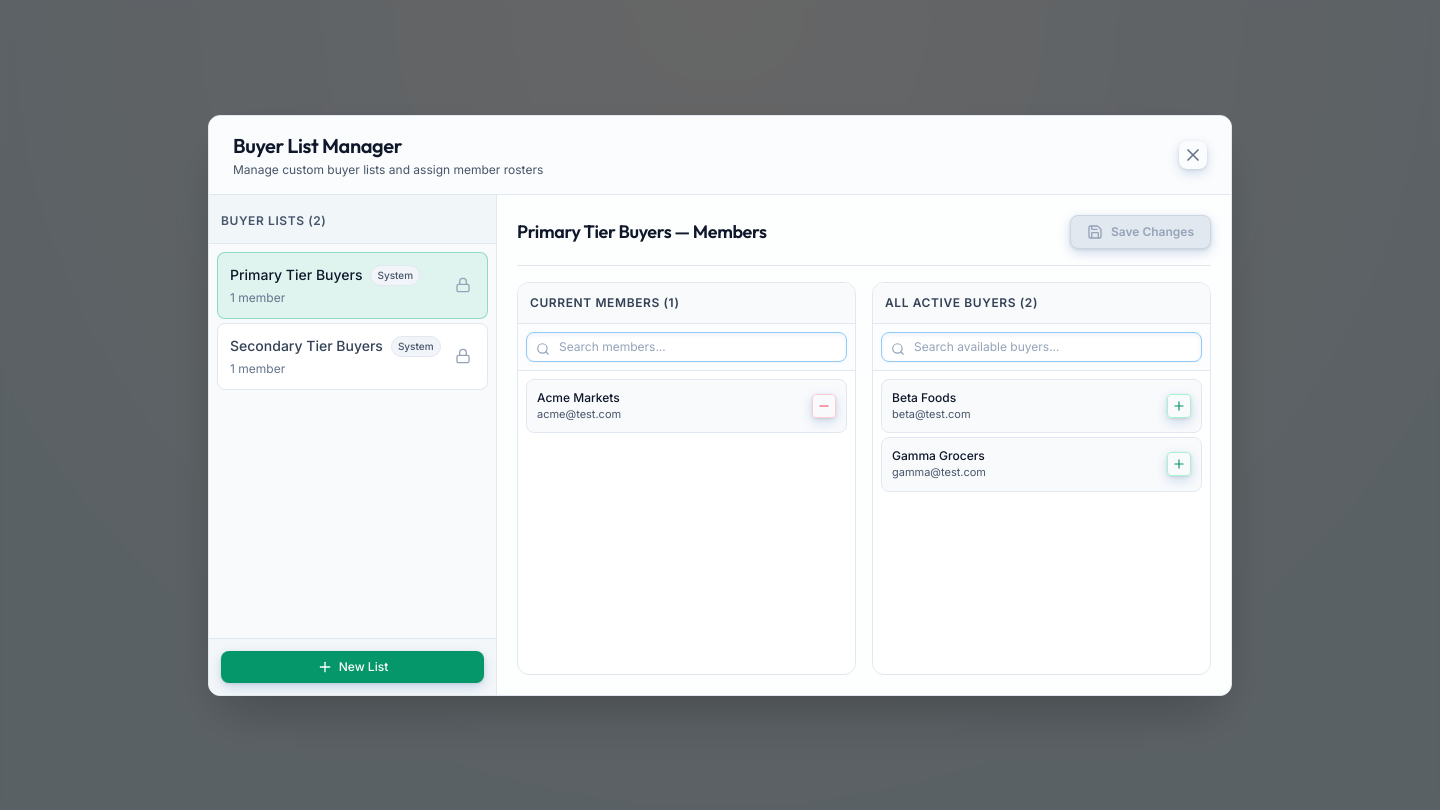
Test: BuyerListManagerModal — Slice 3 & 4: Two-Panel Member Assignment & Dirty State Guard › should filter current members and available buyers using search inputs
In the field with test id "search-available-buyers": (1042, 346) [881,332,1202,362], type "Gamma"
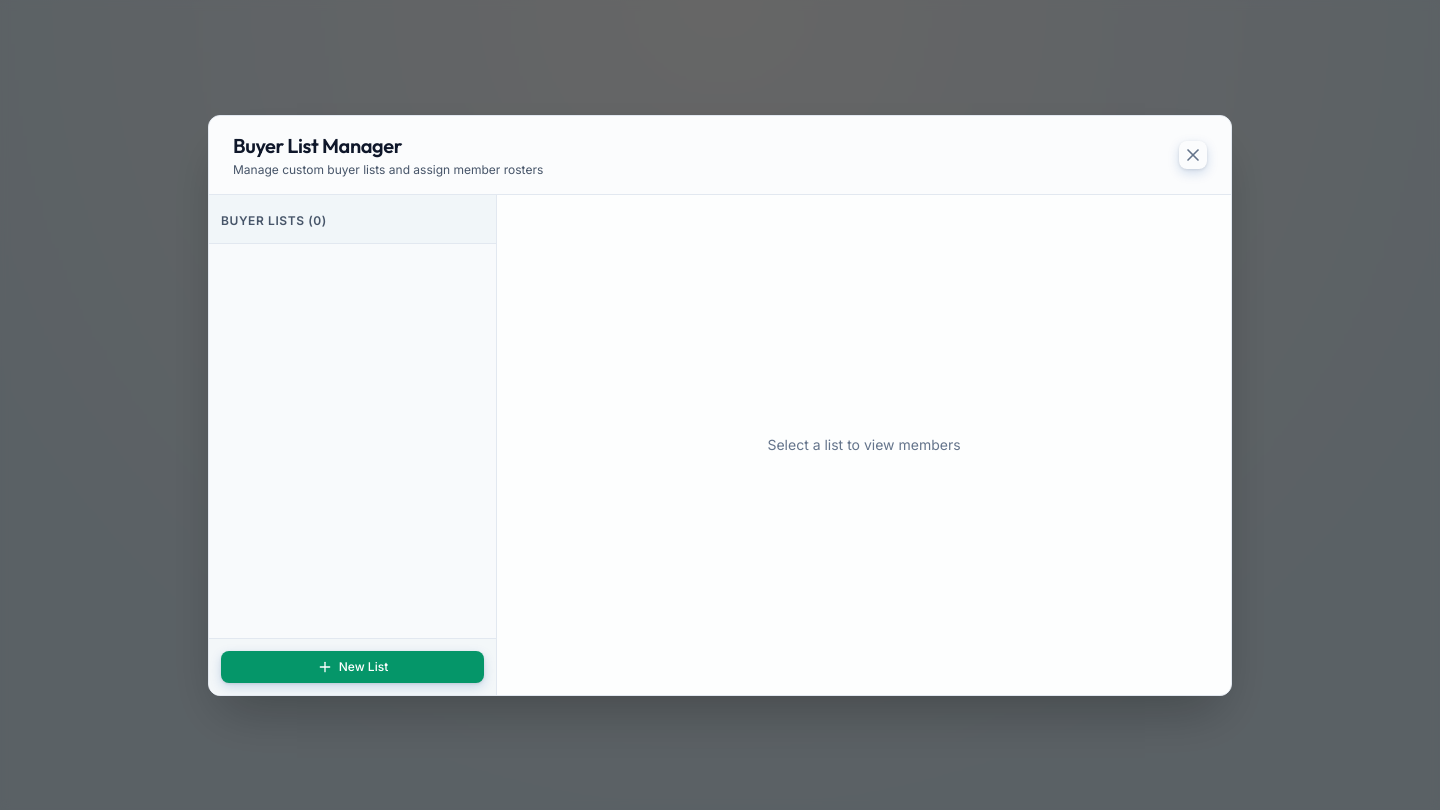
Expected: the button with test id "add-member-b-2" is gone
